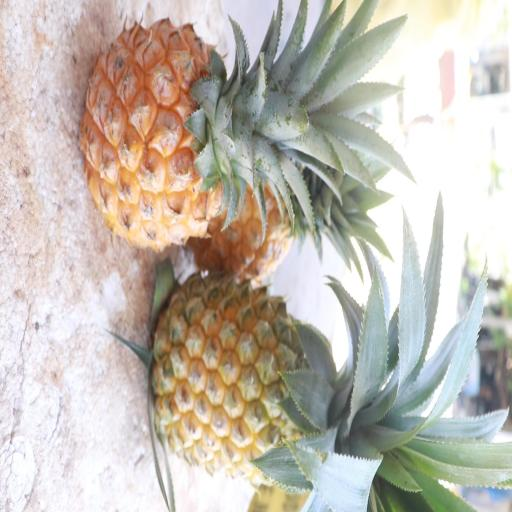Pineapple - v8 v1: (77, 8, 325, 251), (149, 274, 423, 482), (184, 118, 352, 289)
